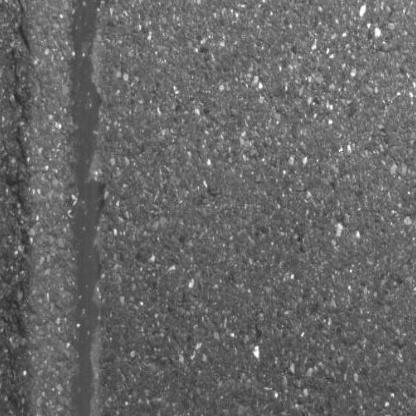Cracks: (9, 0, 36, 167)
